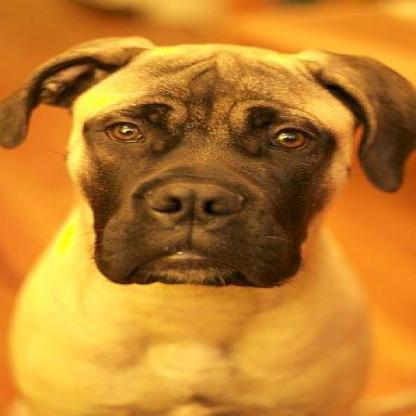bull_mastiff: (0, 34, 412, 414)
